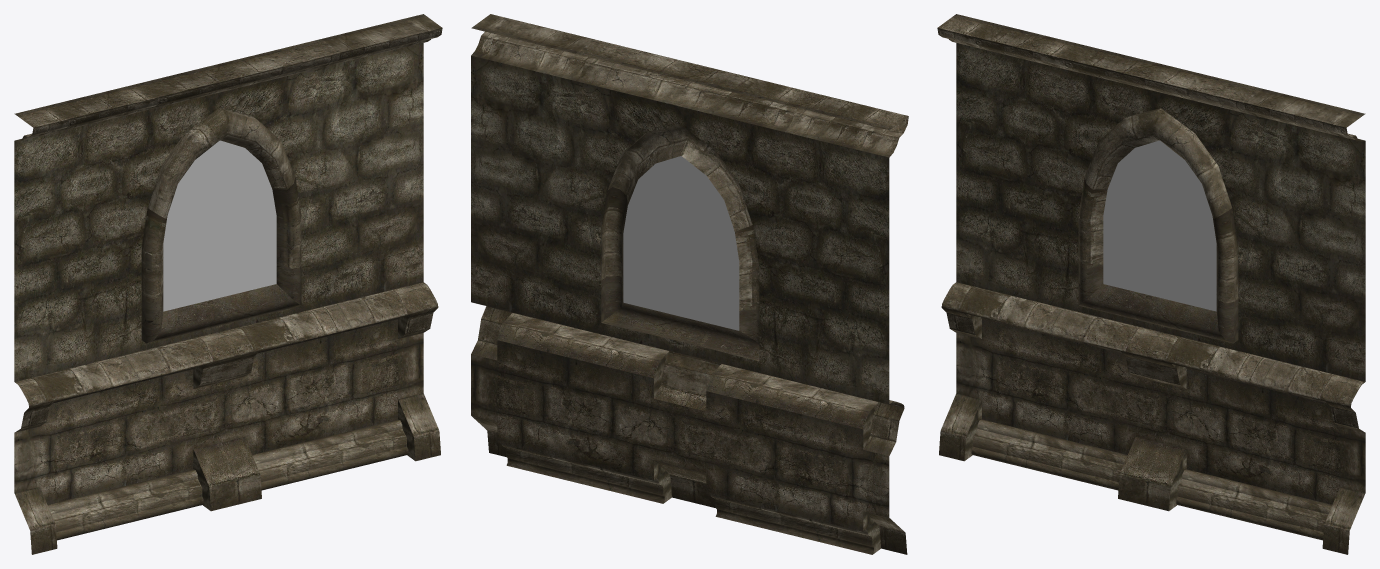
The model's file is window_blue01_worn_amfp.DAE.
3 views of the same model, side by side, from view 1: azimuth 30°, elevation 25°; view 2: azimuth 150°, elevation 25°; view 3: azimuth 330°, elevation 25° (orthographic). The views are drawn at different scales.
Visible parts, largest first — view 1: Object049, Object051, Object052; view 2: Object049, Object051, Object052; view 3: Object049, Object051, Object052.
Part boxes in pixels (left/top/right/bottom): Object049: left=14, top=14, right=442, bottom=554; Object051: left=163, top=140, right=276, bottom=311; Object052: left=141, top=108, right=301, bottom=343; Object049: left=471, top=14, right=908, bottom=554; Object051: left=623, top=156, right=739, bottom=330; Object052: left=601, top=124, right=759, bottom=361; Object049: left=937, top=14, right=1365, bottom=554; Object051: left=1103, top=140, right=1216, bottom=311; Object052: left=1078, top=108, right=1238, bottom=343.
Size of the model in its own units: 4 by 4 by 0.3222.
